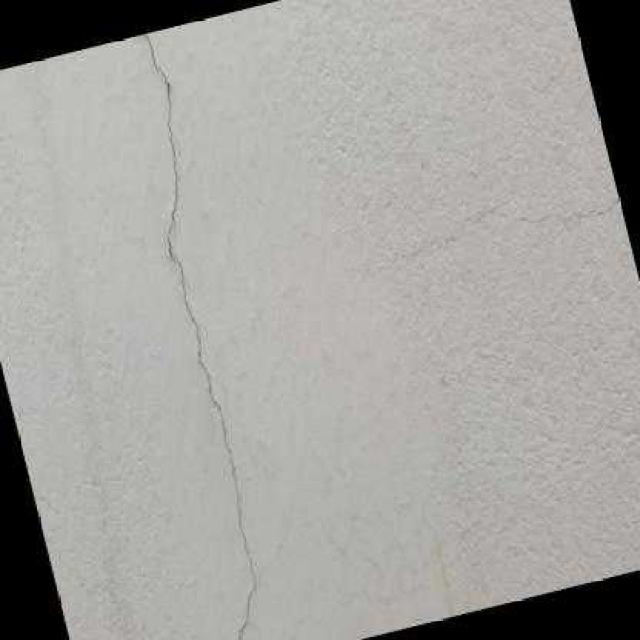D00: (143, 33, 256, 640)
